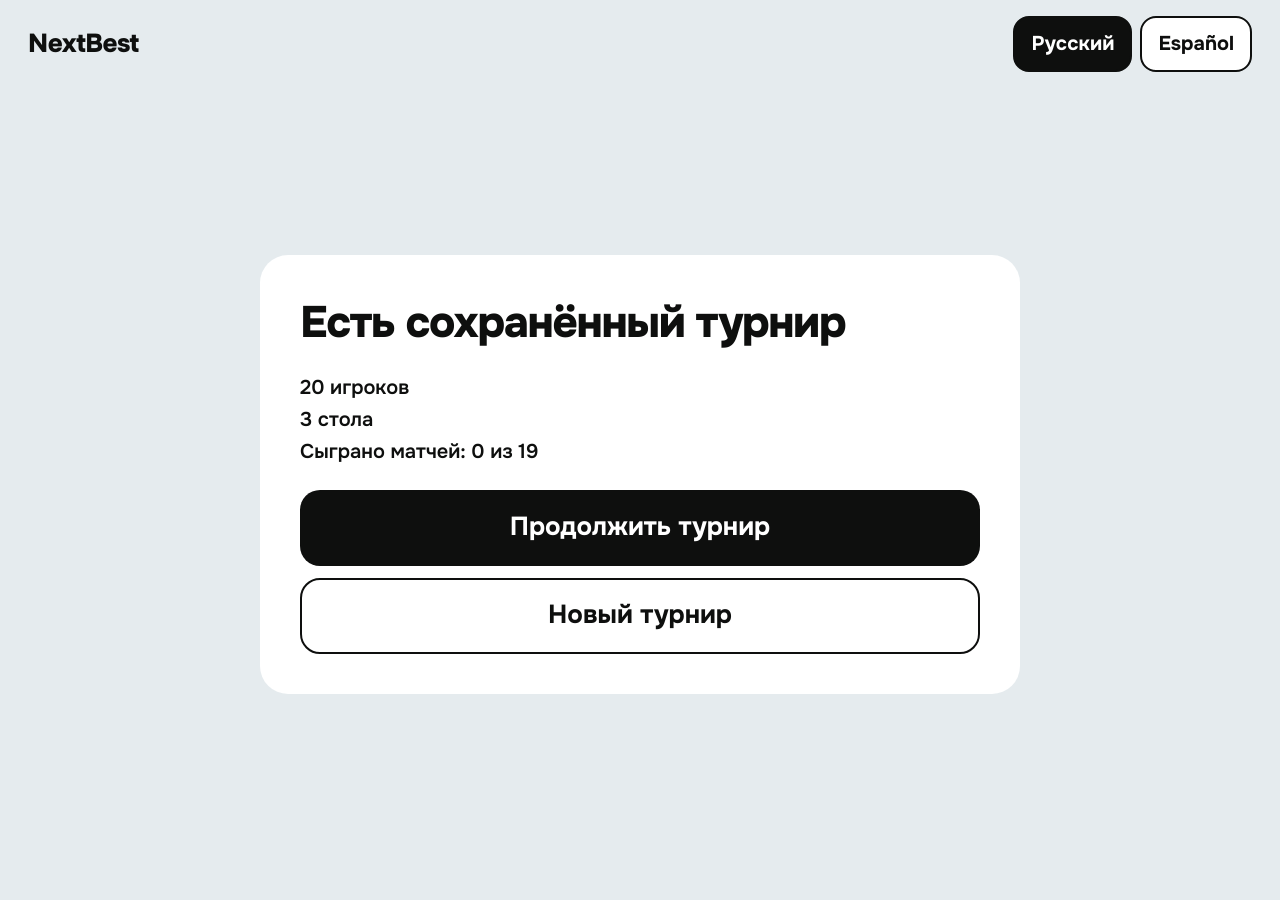
Scenario: table count › adding a table assigns the next waiting match to it at once
Click the button "Продолжить турнир" at (640, 528), box [300,490,980,566]
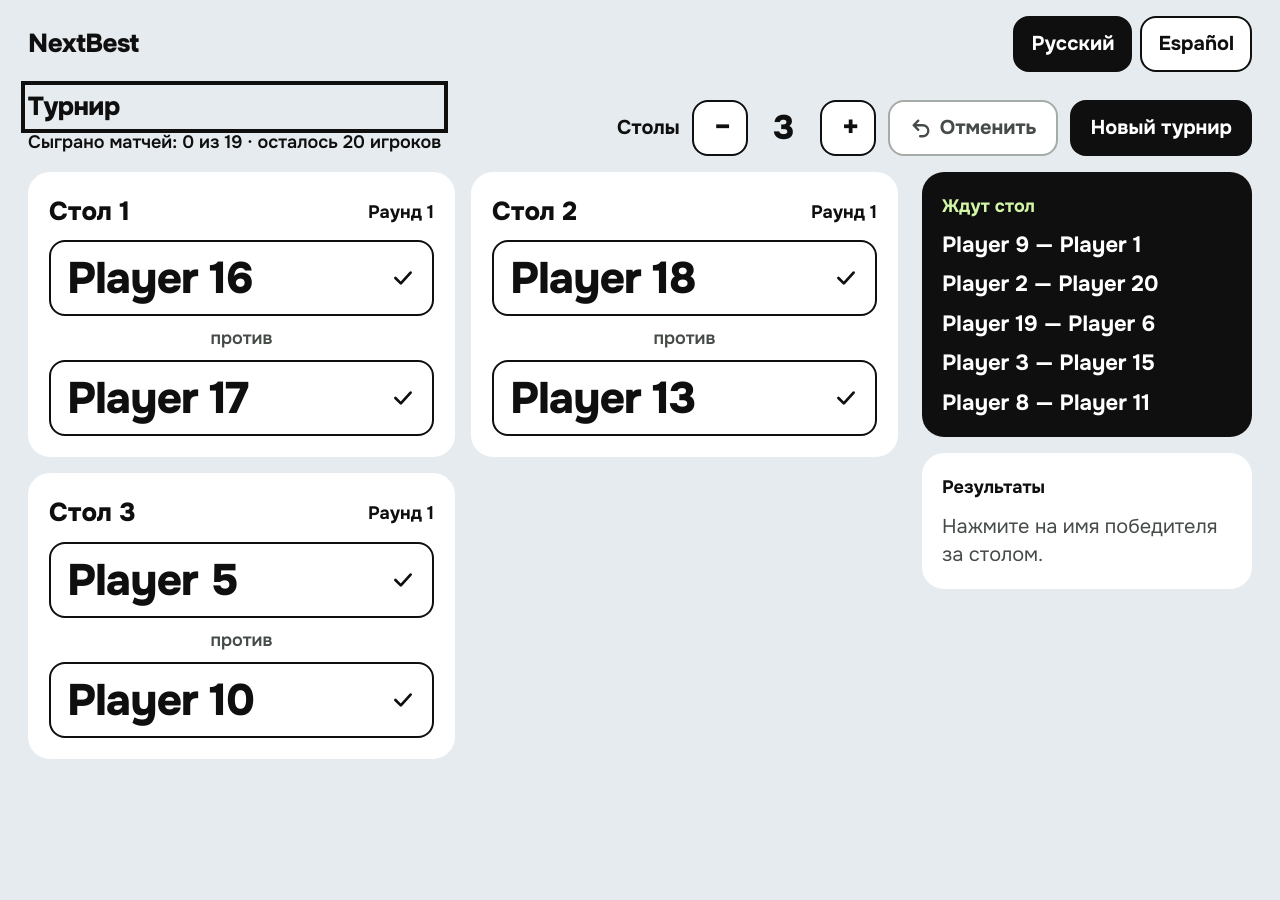
Click the button named "Больше столов" at (848, 128), box [820,100,876,156]
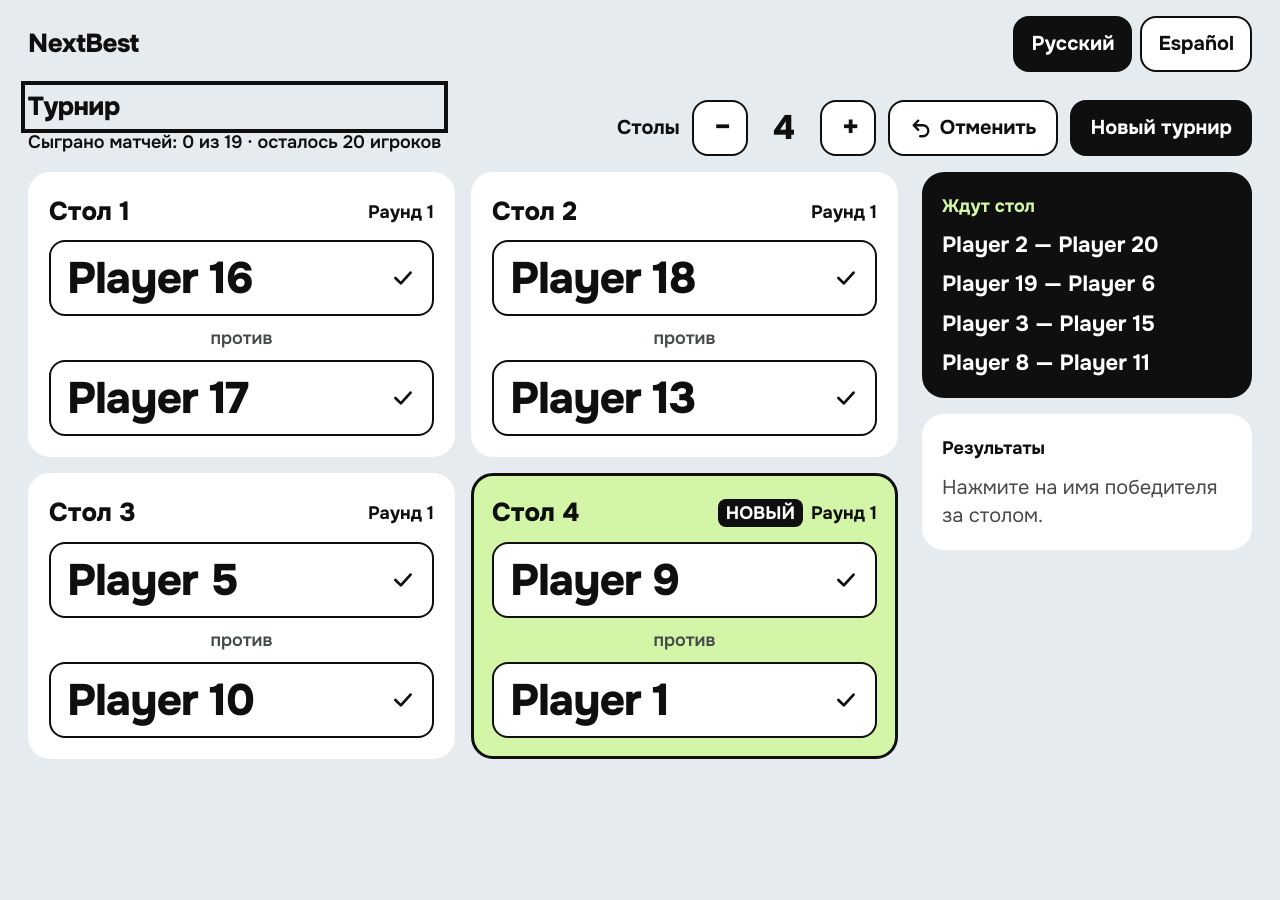
Check: the text "НОВЫЙ" is shown, box [718,499,803,527]
